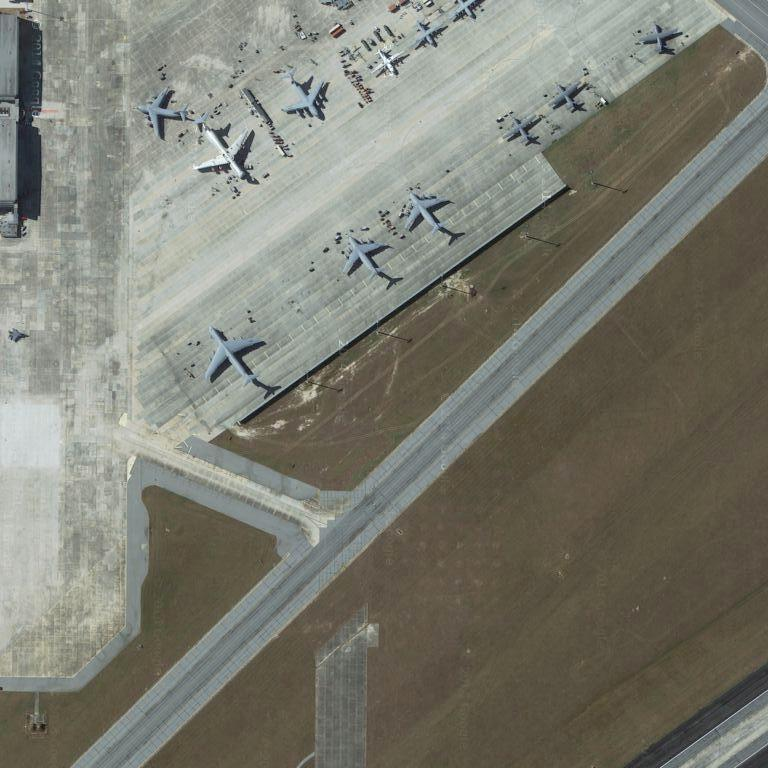C-130: (368, 44, 409, 81), (407, 18, 447, 55), (638, 22, 684, 54), (547, 75, 581, 116), (503, 106, 536, 147), (447, 1, 483, 24)
C-17: (132, 83, 191, 143), (397, 191, 453, 236), (341, 234, 388, 284), (282, 75, 327, 125)
E-8: (192, 121, 253, 182)
KC-135: (197, 323, 271, 392)
